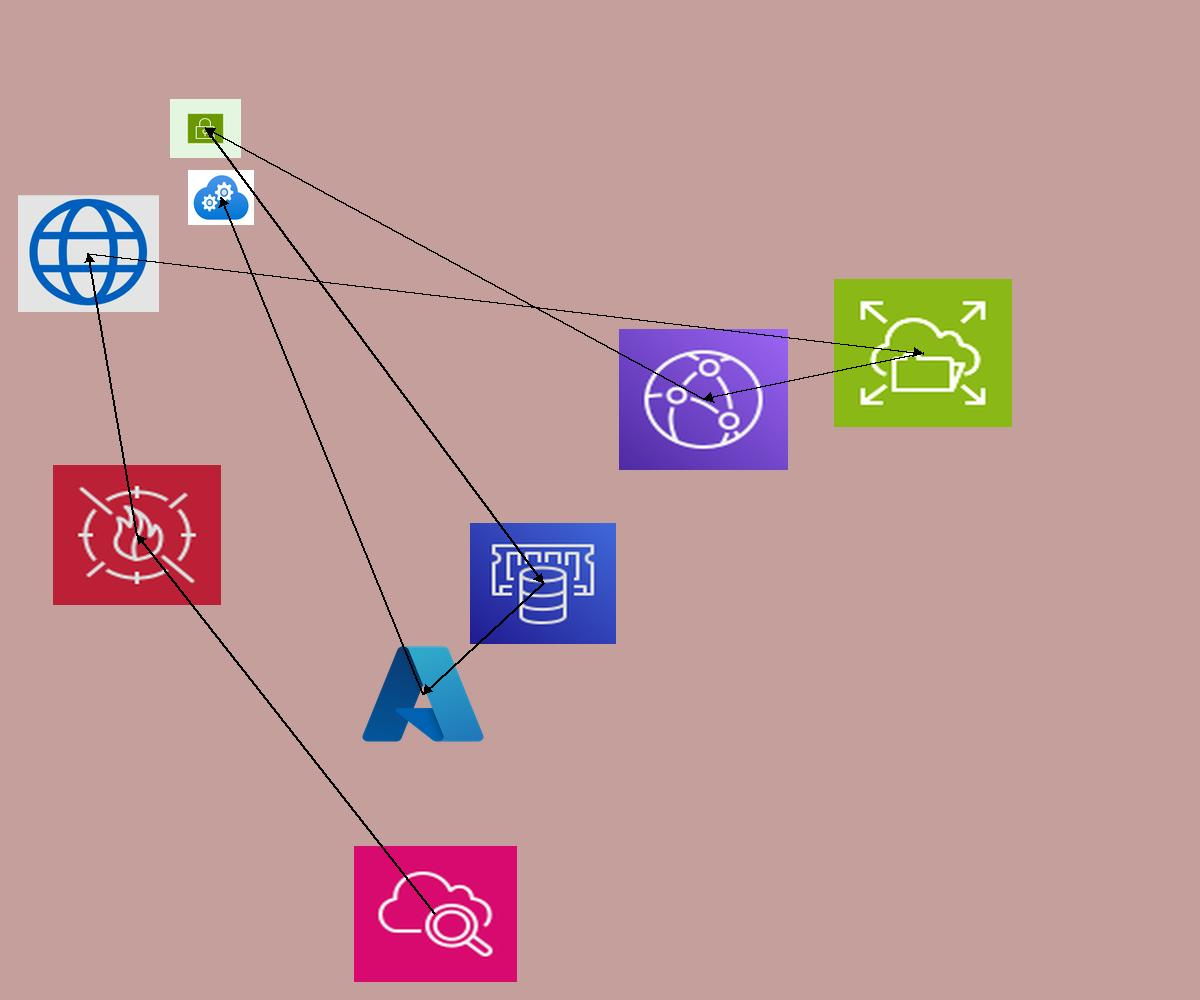AWS-CloudFront: (619, 329, 788, 470)
AWS-CloudWatch: (354, 846, 517, 982)
AWS-EFS: (834, 279, 1012, 427)
AWS-ElastiCache: (470, 523, 616, 644)
AWS-Public-subnet: (170, 99, 241, 158)
AWS-WAF: (53, 465, 221, 605)
Azure_cloud_services: (188, 170, 254, 225)
Azure_http: (18, 195, 159, 312)
Azure_services: (357, 639, 489, 749)
